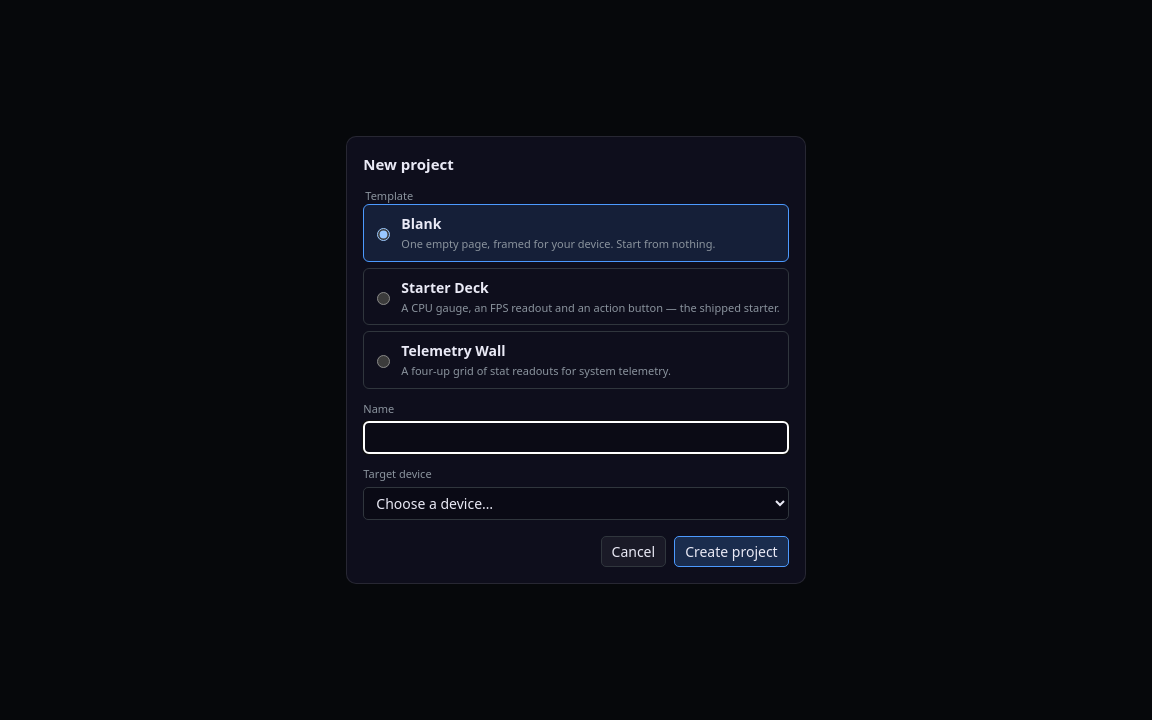
NewProjectWizard — invalid input blocked with inline errors (CD-406) › blocks an empty submit and surfaces inline, field-tied errors
Click the button with test id "wizard-create" at (731, 551), box 674,536 -> 789,567
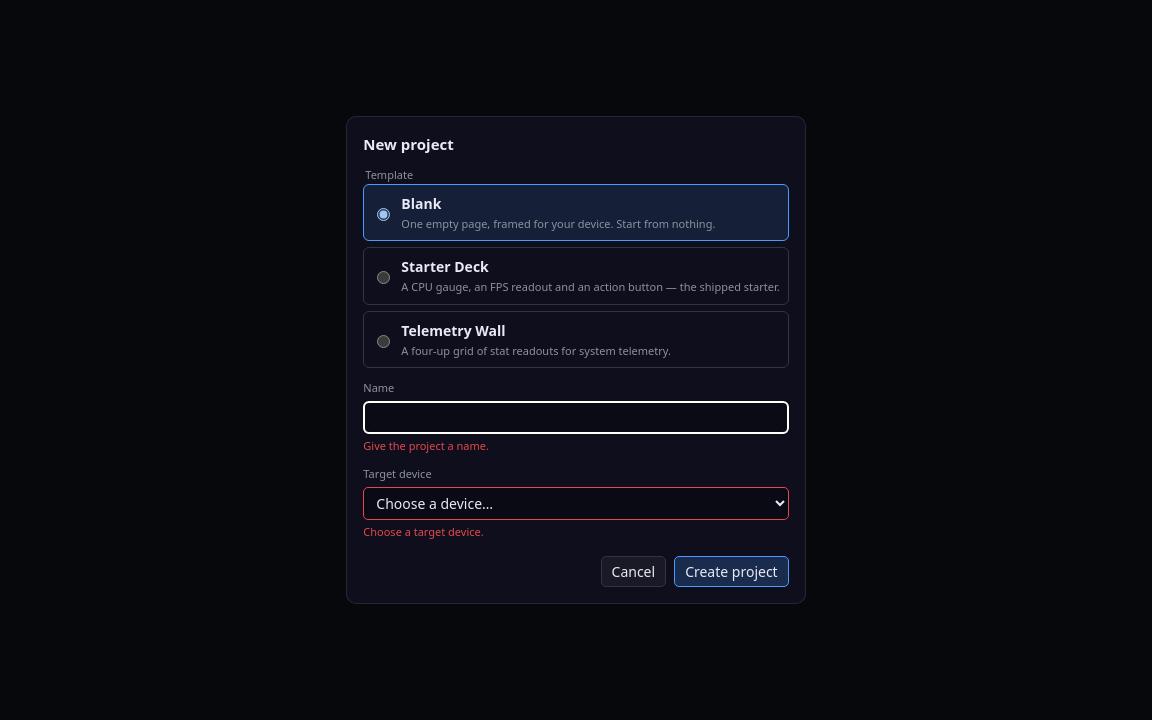
Result: the message "Give the project a name." is shown at 363,438 -> 489,453
Result: the message "Choose a target device." is shown at 363,524 -> 484,539
